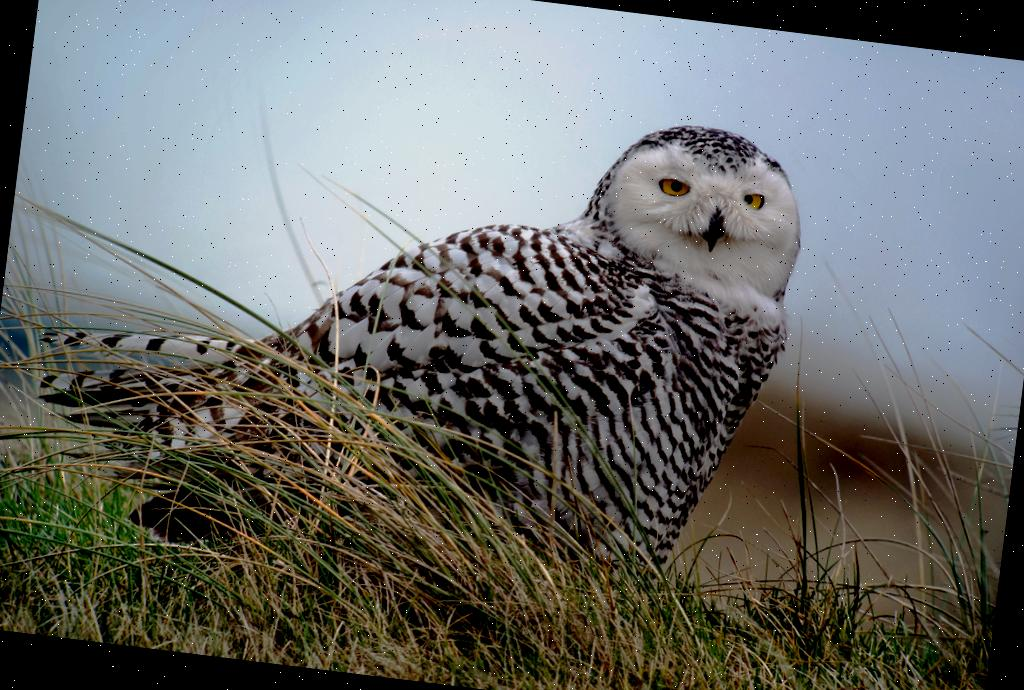Owl: (14, 48, 814, 620)
